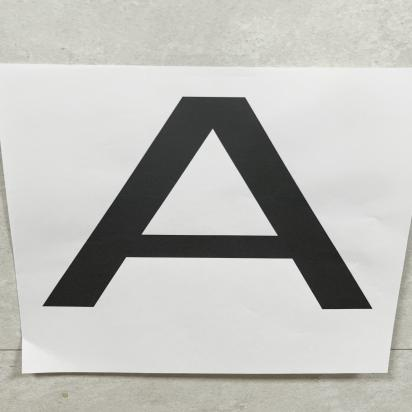seat: (44, 90, 403, 330)
